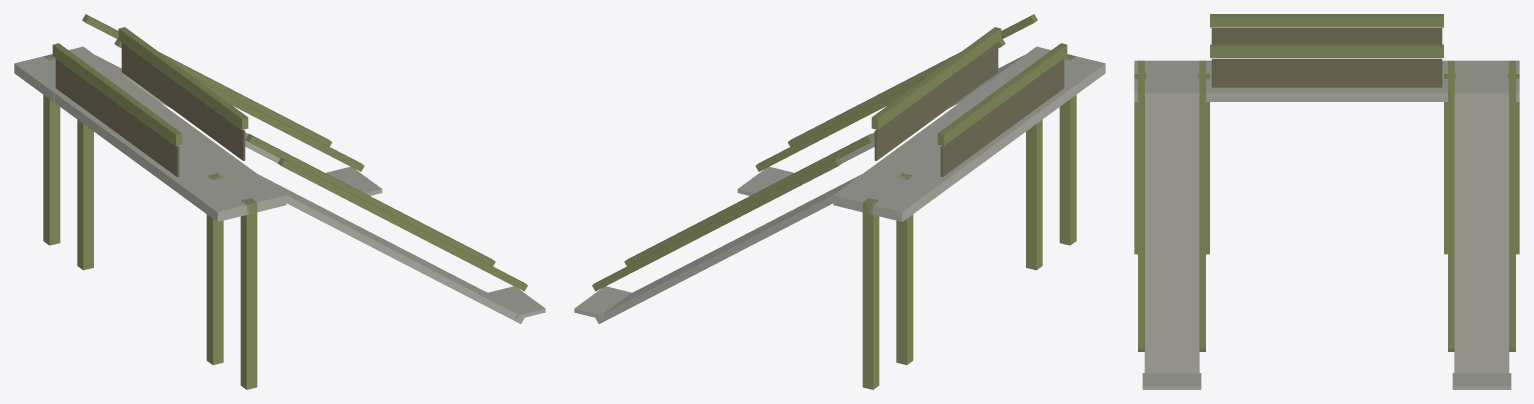
File: SM_KitPaso_v1_LOD1.fbx
3 renders of one model, left to right at view 1: azimuth 30°, elevation 25°; view 2: azimuth 150°, elevation 25°; view 3: azimuth 270°, elevation 25°, orthographic. The views are drawn at different scales.
Parts seen in each view (by area): view 1: SM_bloques.kit_paso_v1_LOD1; view 2: SM_bloques.kit_paso_v1_LOD1; view 3: SM_bloques.kit_paso_v1_LOD1.
Part boxes in pixels (bbox=[...]): SM_bloques.kit_paso_v1_LOD1: bbox=[14, 14, 545, 389]; SM_bloques.kit_paso_v1_LOD1: bbox=[574, 14, 1105, 389]; SM_bloques.kit_paso_v1_LOD1: bbox=[1134, 14, 1519, 389].
Bounding box in the file's own units: 10.64 × 7.29 × 11.2.
